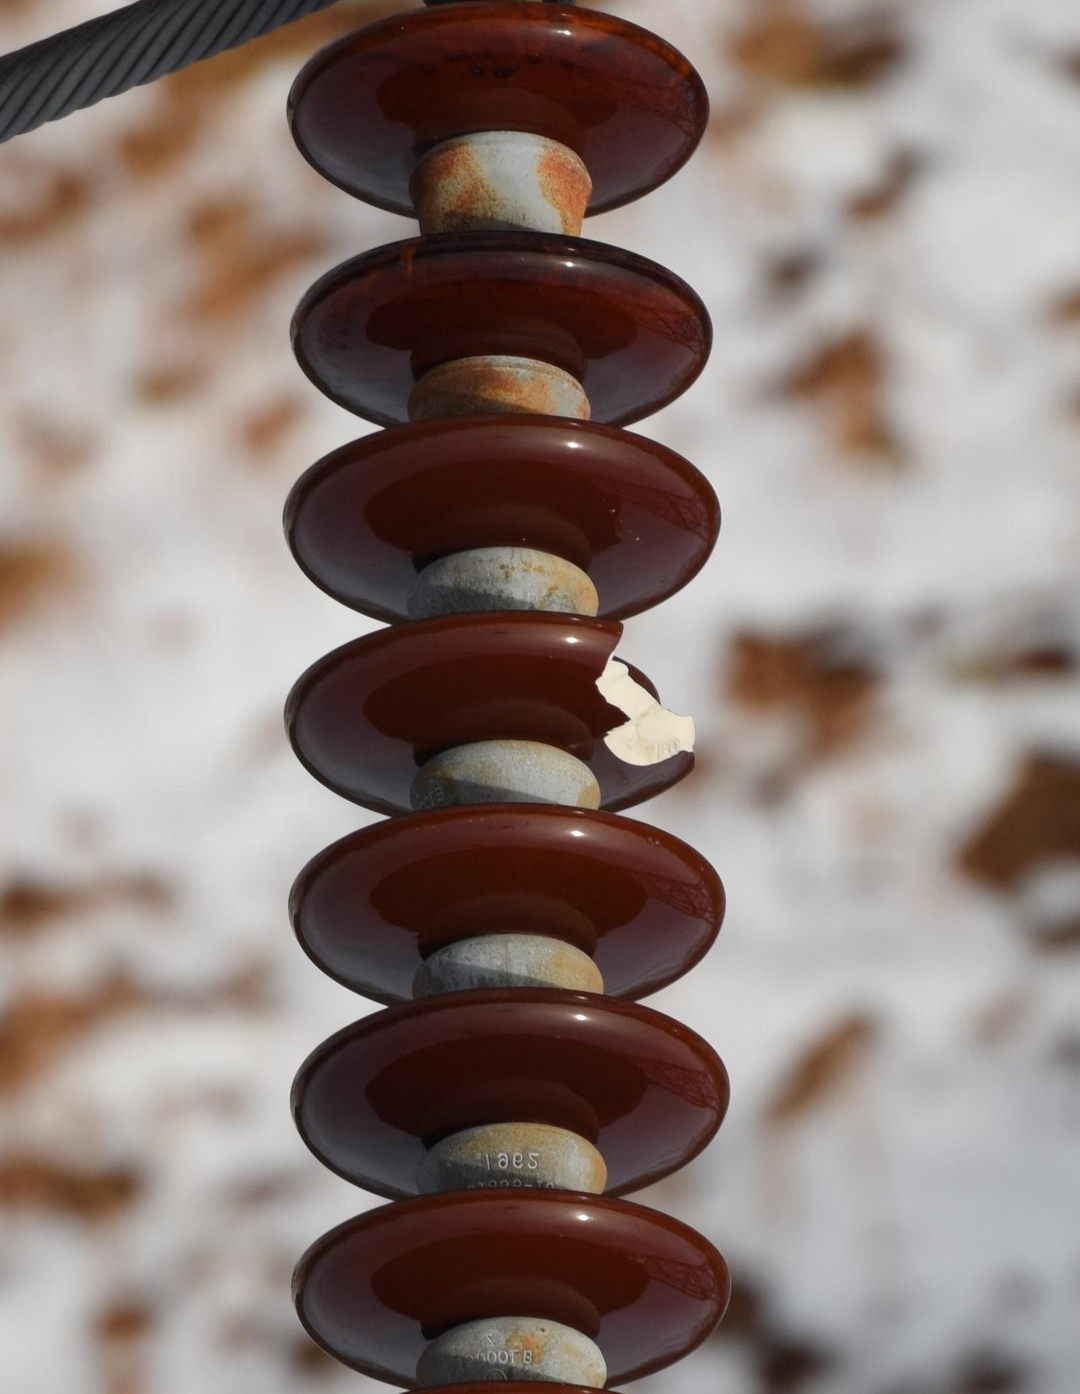insulator breakage: (274, 601, 708, 825)
